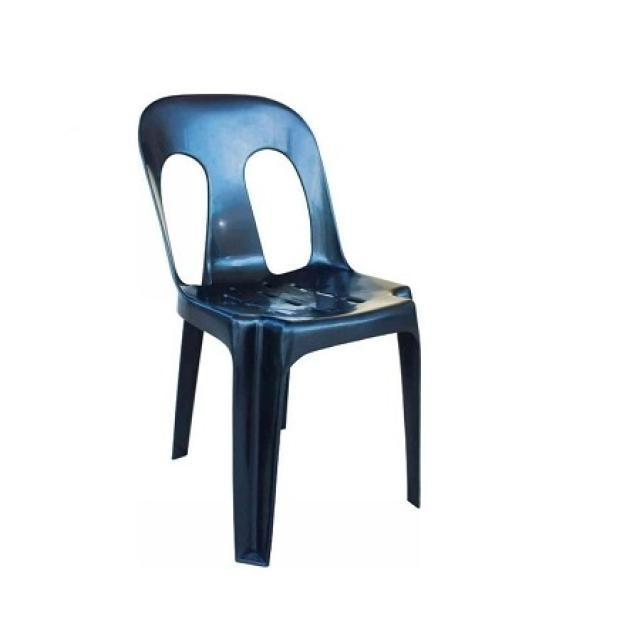chair: (136, 88, 432, 569)
